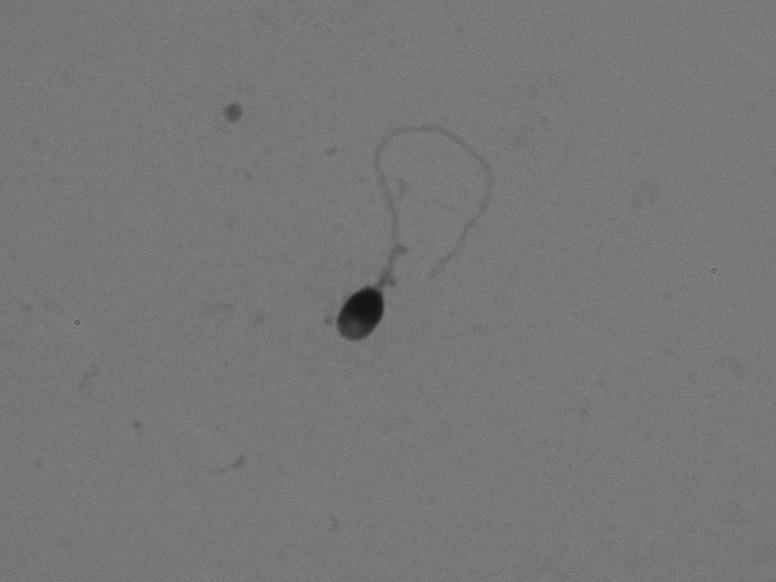Abnormal: (302, 110, 561, 368)
